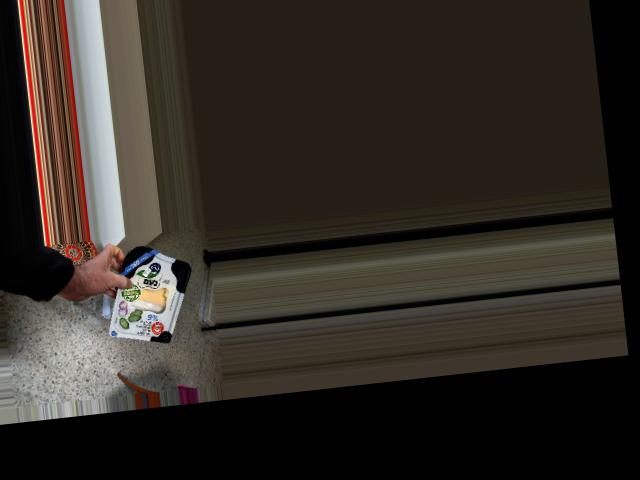cheese: (114, 238, 192, 347)
